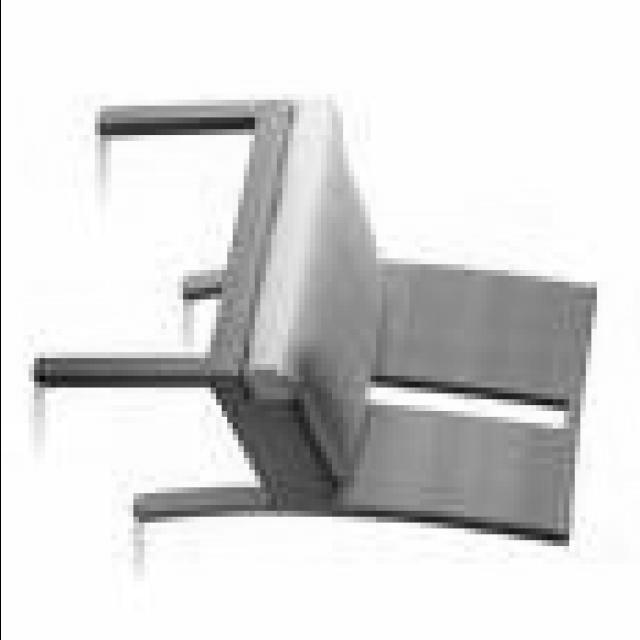chair: (30, 95, 598, 549)
